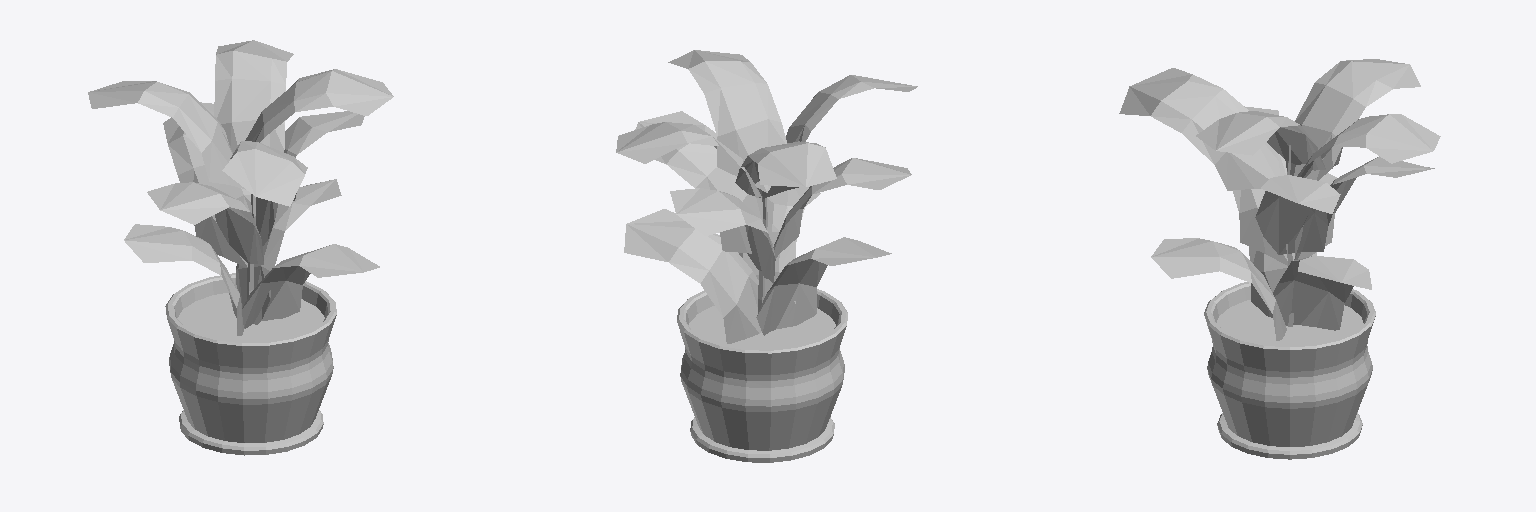
The model's file is Tree.obj.
The picture shows the model from 3 angles: view 1: azimuth 30°, elevation 25°; view 2: azimuth 150°, elevation 25°; view 3: azimuth 270°, elevation 25°; orthographic projection.
Parts seen in each view (by area): view 1: XOIAL_PlantInVase_PlantInVase_0; view 2: XOIAL_PlantInVase_PlantInVase_0; view 3: XOIAL_PlantInVase_PlantInVase_0.
Boxes of the visible parts, box(x1,y1,x2,y2) form: XOIAL_PlantInVase_PlantInVase_0: box(88, 40, 393, 455); XOIAL_PlantInVase_PlantInVase_0: box(616, 50, 917, 462); XOIAL_PlantInVase_PlantInVase_0: box(1119, 59, 1440, 459).
Bounding box in the file's own units: 0.0711 × 0.0974 × 0.082.